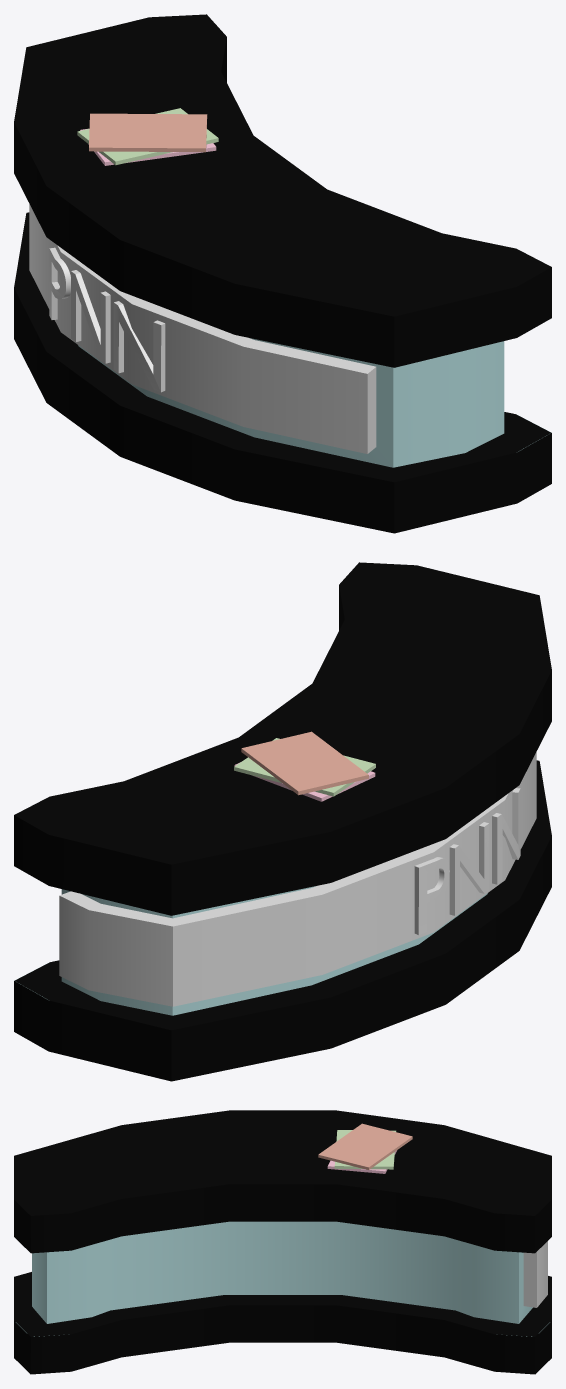
Rendered from Desk.fbx.
3 views of the same model, one above another, from view 1: azimuth 30°, elevation 25°; view 2: azimuth 150°, elevation 25°; view 3: azimuth 270°, elevation 25° (orthographic). The views are drawn at different scales.
Parts seen in each view (by area): view 1: Desk, PNN, Dokument, Dokument.001; view 2: Desk, PNN, Dokument, Dokument.001; view 3: Desk, Dokument, Dokument.001.
Part boxes in pixels (left/top/right/bottom): Desk: left=14, top=14, right=551, bottom=533; PNN: left=49, top=247, right=165, bottom=392; Dokument: left=89, top=113, right=207, bottom=152; Dokument.001: left=77, top=108, right=218, bottom=165; Desk: left=14, top=562, right=551, bottom=1081; PNN: left=414, top=788, right=520, bottom=935; Dokument: left=241, top=731, right=368, bottom=795; Dokument.001: left=234, top=738, right=375, bottom=796; Desk: left=14, top=1110, right=551, bottom=1374; Dokument: left=318, top=1123, right=412, bottom=1169; Dokument.001: left=334, top=1130, right=396, bottom=1169.
Bounding box in the file's own units: 223 × 164 × 481.
